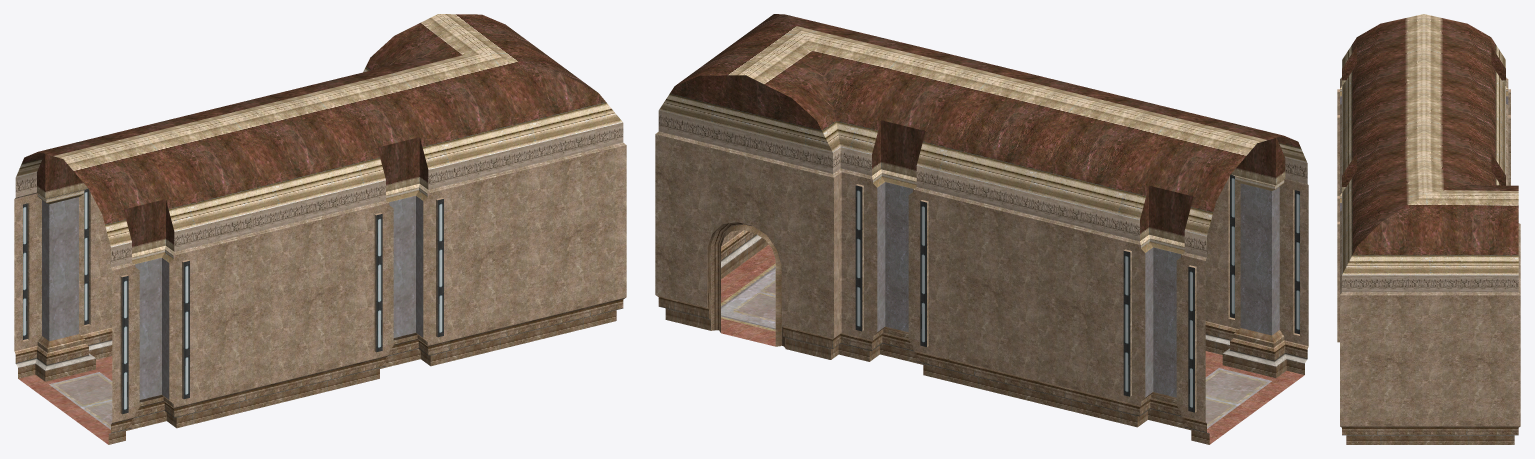
Rendered from thm_nboo_thed_theed_palace_r31_mesh_r31.fbx.
3 views of the same model, side by side, from view 1: azimuth 30°, elevation 25°; view 2: azimuth 150°, elevation 25°; view 3: azimuth 270°, elevation 25° (orthographic). The views are drawn at different scales.
Parts seen in each view (by area): view 1: mesh_node; view 2: mesh_node; view 3: mesh_node.
Part boxes in pixels (x1,y1,x2,y2): mesh_node: (14,14,626,444); mesh_node: (655,14,1308,444); mesh_node: (1337,14,1520,444).
Size of the model in its own units: 24.3 by 11.41 by 8.73.
